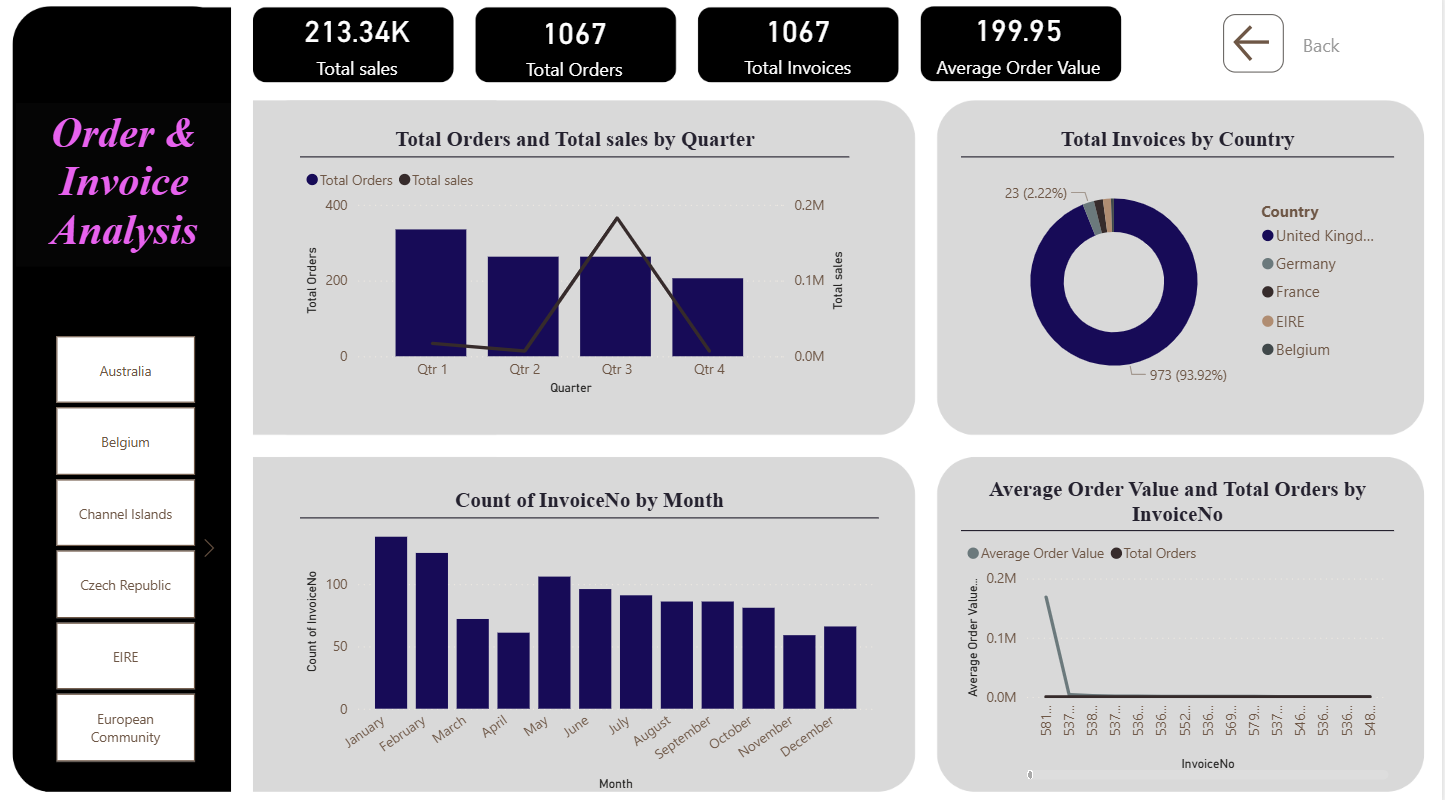

The dashboard page shown, as its layout file describes it:
{"tool":"powerbi","page":{"name":"Order & Invoice Analysis","canvas":[1280,720],"ordinal":4},"visuals":[{"type":"actionButton","box":[1085.8,18.1,54.3,51.9],"z":0},{"type":"textbox","box":[1152.2,29,51.9,41],"z":1000},{"type":"textbox","box":[15.7,96.5,191.8,144.8],"z":2000},{"type":"slicer","fields":{"Values":["data.Country"]},"box":[25.3,278.7,172.5,409],"z":3000},{"type":"card","fields":{"Values":["data.Total sales"]},"box":[221.3,6.7,193.3,70.7],"z":4000},{"type":"card","fields":{"Values":["data.Total Orders"]},"box":[414.7,1.3,192,84],"z":5000},{"type":"card","fields":{"Values":["data.Total Invoices"]},"box":[606.7,0,205.3,84],"z":6000},{"type":"card","fields":{"Values":["data.Average Order Value"]},"box":[754.7,0,300.5,83.7],"z":7000},{"type":"columnChart","fields":{"Category":["data.InvoiceDate.Variation.Date Hierarchy.Month","data.InvoiceDate.Variation.Date Hierarchy.Day"],"Y":["CountNonNull(data.InvoiceNo)"]},"box":[267.6,437.7,513.2,271.7],"z":8000},{"type":"donutChart","fields":{"Y":["data.Total Invoices"],"Category":["data.Country"]},"box":[853.5,118,384.2,247],"z":9000},{"type":"lineChart","fields":{"Category":["data.InvoiceNo"],"Y":["data.Average Order Value","data.Total Orders"]},"box":[854,428,384,272],"z":10000},{"type":"lineClusteredColumnComboChart","fields":{"Category":["data.InvoiceDate.Variation.Date Hierarchy.Quarter","data.InvoiceDate.Variation.Date Hierarchy.Month","data.InvoiceDate.Variation.Date Hierarchy.Day"],"Y":["data.Total Orders"],"Y2":["data.Total sales"]},"box":[267.8,118.2,487.4,241.3],"z":10001}]}

Visuals, with their boxes in screenshot pixels (x1, y1, x2, y2), scaled from the page's 1280x720 canvas onto the 1445x800 screenshot:
actionButton: [left=1226, top=20, right=1287, bottom=78]
textbox: [left=1301, top=32, right=1359, bottom=78]
textbox: [left=18, top=107, right=234, bottom=268]
slicer - data.Country: [left=29, top=310, right=223, bottom=764]
card - data.Total sales: [left=250, top=7, right=468, bottom=86]
card - data.Total Orders: [left=468, top=1, right=685, bottom=95]
card - data.Total Invoices: [left=685, top=0, right=917, bottom=93]
card - data.Average Order Value: [left=852, top=0, right=1191, bottom=93]
columnChart - data.InvoiceDate.Variation.Date Hierarchy.Month x data.InvoiceDate.Variation.Date Hierarchy.Day: [left=302, top=486, right=881, bottom=788]
donutChart - data.Total Invoices x data.Country: [left=964, top=131, right=1397, bottom=406]
lineChart - data.InvoiceNo x data.Average Order Value: [left=964, top=476, right=1398, bottom=778]
lineClusteredColumnComboChart - data.InvoiceDate.Variation.Date Hierarchy.Quarter x data.InvoiceDate.Variation.Date Hierarchy.Month: [left=302, top=131, right=853, bottom=399]
